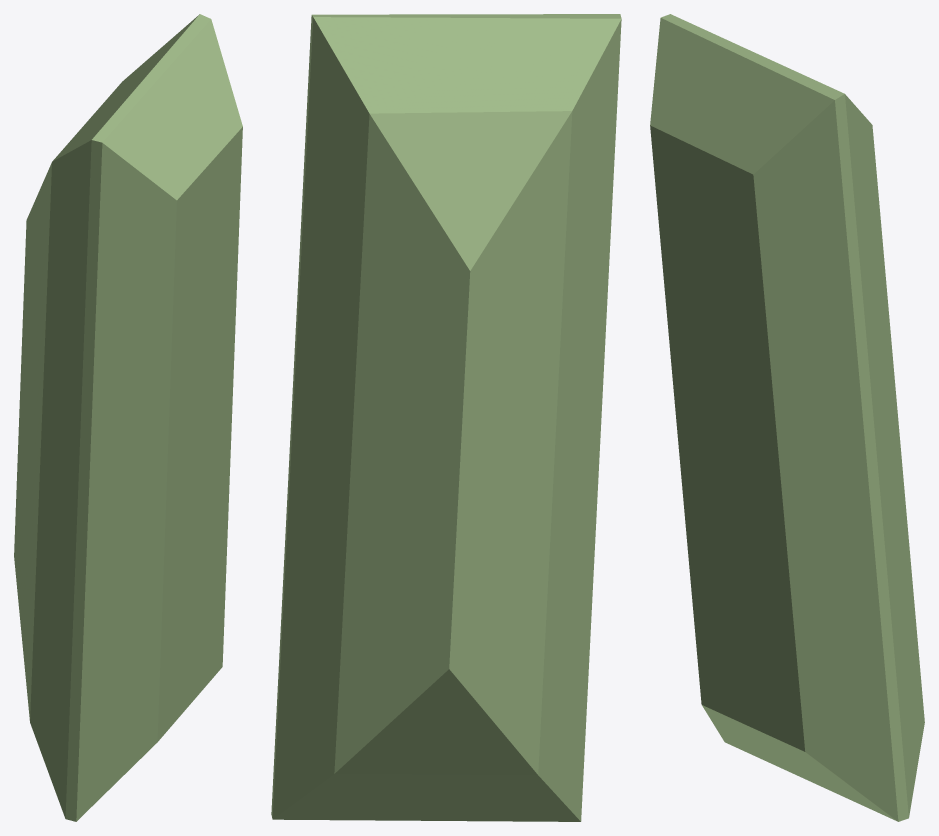
The model's file is TR3_Spacers_BaguetteStone.001 2.glb.
3 views of the same model, side by side, from view 1: azimuth 30°, elevation 25°; view 2: azimuth 150°, elevation 25°; view 3: azimuth 270°, elevation 25° (orthographic). The views are drawn at different scales.
Parts seen in each view (by area): view 1: TR3_Spacers_BaguetteStone.001; view 2: TR3_Spacers_BaguetteStone.001; view 3: TR3_Spacers_BaguetteStone.001.
Boxes of the visible parts, box(x1,y1,x2,y2) form: TR3_Spacers_BaguetteStone.001: box(14, 14, 242, 821); TR3_Spacers_BaguetteStone.001: box(271, 14, 621, 821); TR3_Spacers_BaguetteStone.001: box(650, 14, 924, 821).
Bounding box in the file's own units: 0.1579 × 0.5302 × 0.1785.
